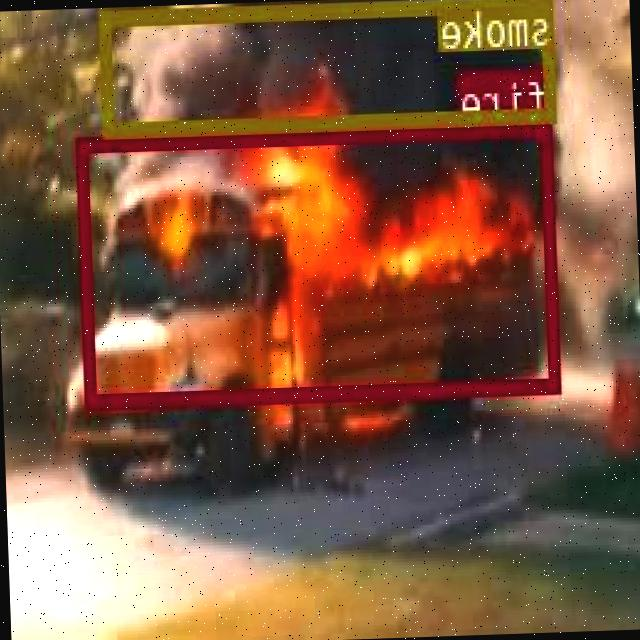fire: (79, 119, 562, 406)
smoke: (100, 0, 558, 133)
